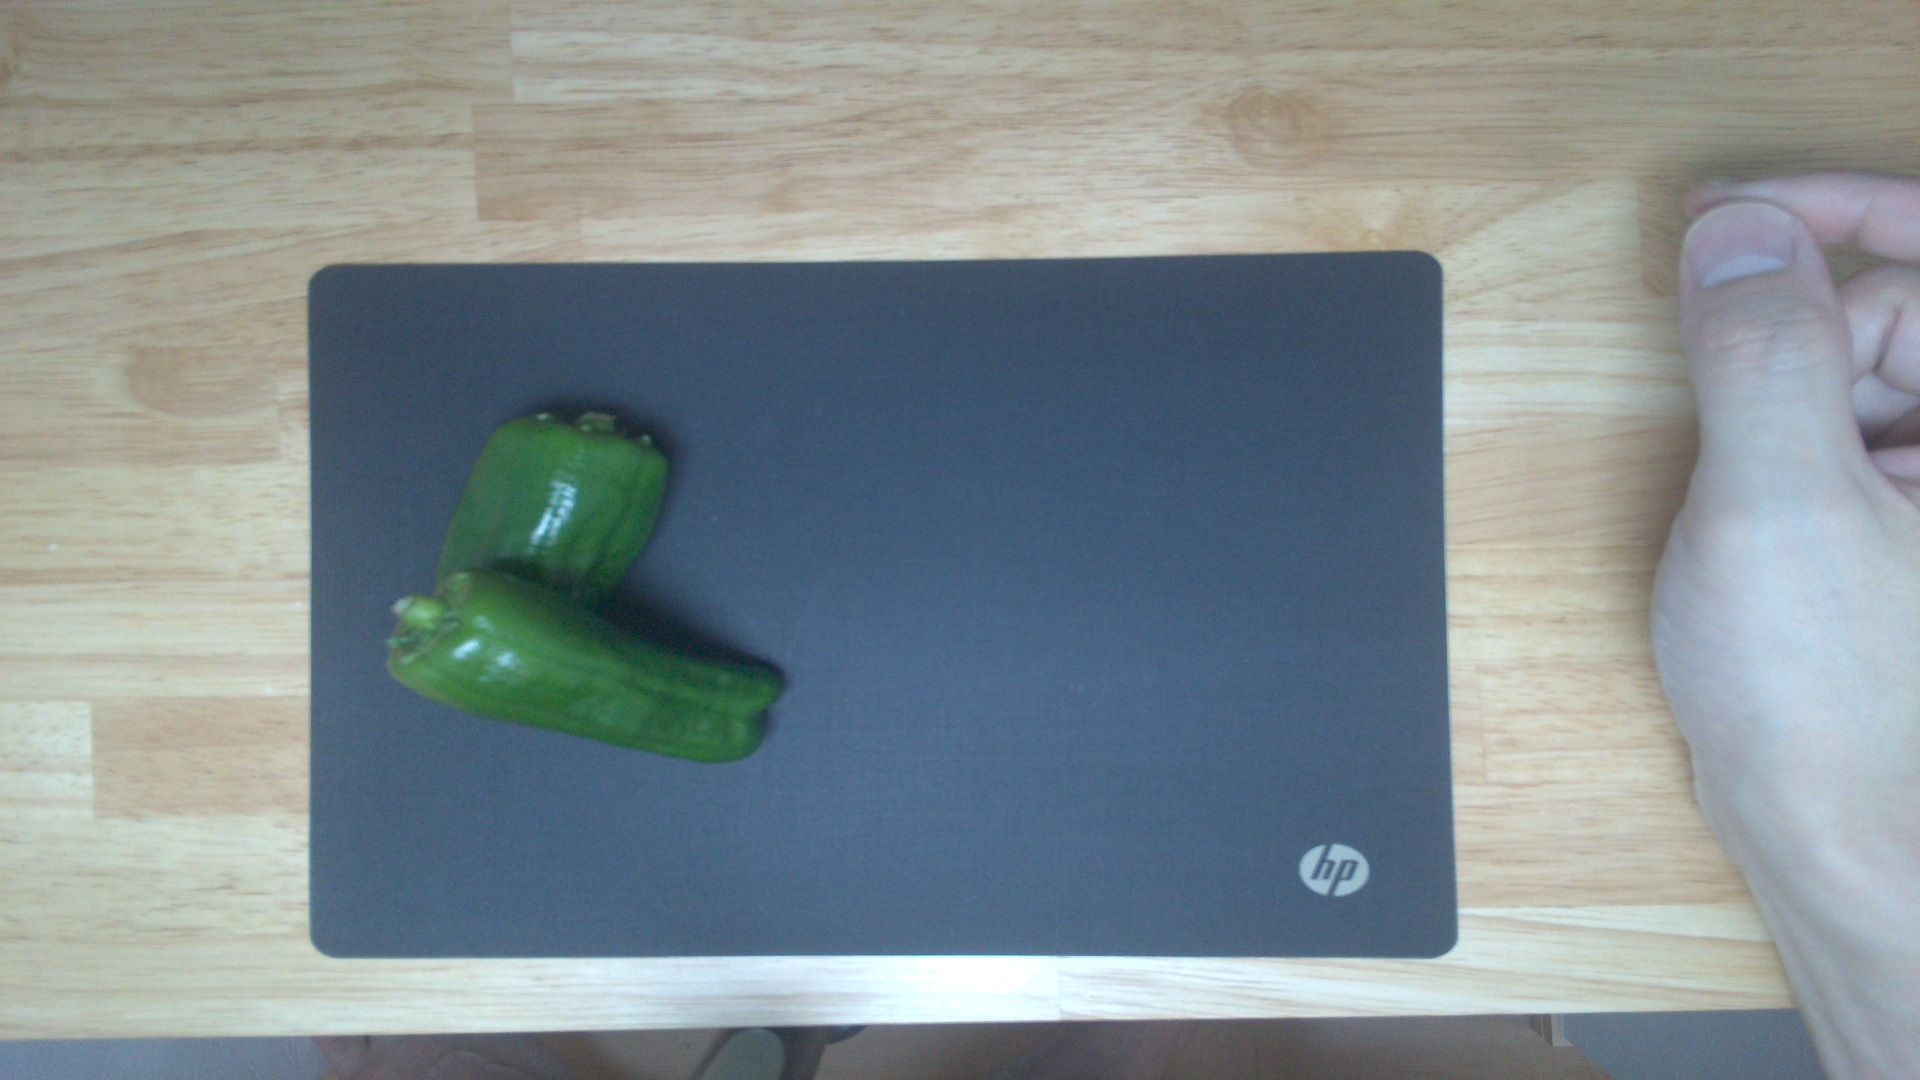Piman: (380, 567, 791, 770), (415, 407, 673, 695)
